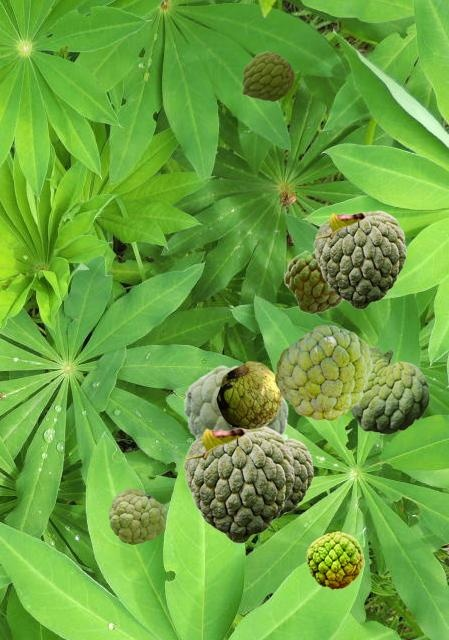atis: (183, 426, 293, 542), (275, 325, 371, 419), (313, 210, 405, 308), (183, 365, 288, 439), (350, 346, 428, 433), (216, 361, 281, 428), (283, 249, 343, 313), (306, 531, 362, 588), (109, 488, 165, 543), (279, 438, 312, 517), (242, 51, 293, 100)
